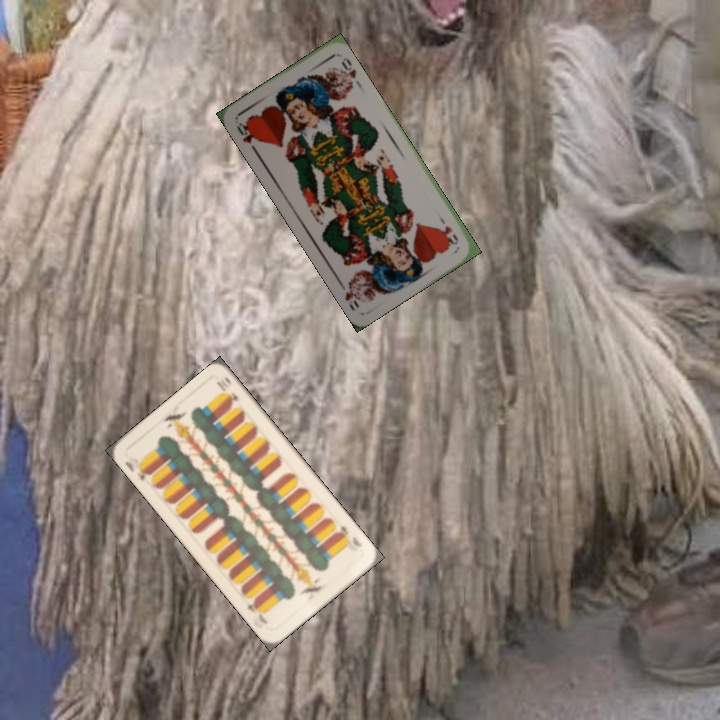E10: (333, 521, 364, 550), (121, 457, 154, 484)
HO: (232, 118, 260, 154), (435, 212, 461, 248)
